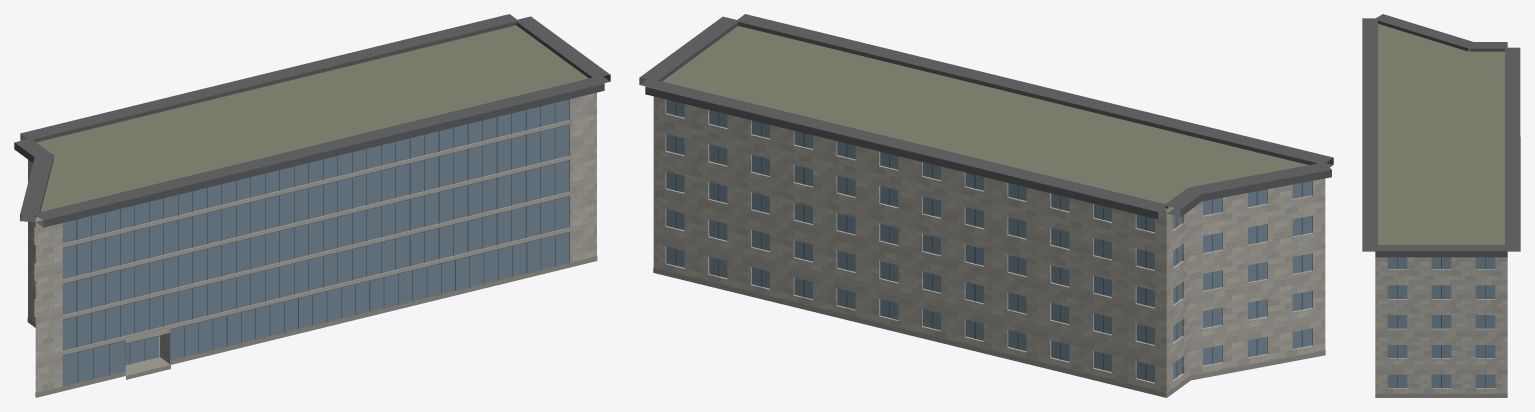
3 views of the same model, side by side, from view 1: azimuth 30°, elevation 25°; view 2: azimuth 150°, elevation 25°; view 3: azimuth 270°, elevation 25° (orthographic). The views are drawn at different scales.
Parts seen in each view (by area): view 1: sktelecom__glass, sktelecom__roof, sktelecom__trim, sktelecom__wall, sktelecom__spandrel, sktelecom__frame, sktelecom__base; view 2: sktelecom__wall, sktelecom__roof, sktelecom__glass, sktelecom__trim, sktelecom__base, sktelecom__frame; view 3: sktelecom__roof, sktelecom__wall, sktelecom__trim, sktelecom__glass, sktelecom__base, sktelecom__frame.
Boxes of the visible parts, x1,y1,x2,y2 form: sktelecom__glass: (62,99,569,386); sktelecom__roof: (35,25,588,218); sktelecom__trim: (14,14,610,227); sktelecom__wall: (28,92,596,397); sktelecom__spandrel: (62,120,569,364); sktelecom__frame: (63,103,569,382); sktelecom__base: (27,256,597,397); sktelecom__wall: (653,96,1325,397); sktelecom__roof: (662,26,1307,397); sktelecom__glass: (666,99,1311,382); sktelecom__trim: (639,14,1333,219); sktelecom__base: (653,267,1325,397); sktelecom__frame: (675,102,1302,380); sktelecom__roof: (1378,24,1504,244); sktelecom__wall: (1375,257,1507,393); sktelecom__trim: (1362,14,1520,257); sktelecom__glass: (1387,257,1495,388); sktelecom__base: (1375,394,1507,397); sktelecom__frame: (1397,257,1485,388).
Size of the model in its own units: 65.03 by 19.8 by 18.3.
Materials: 8 (1 with a texture image).
